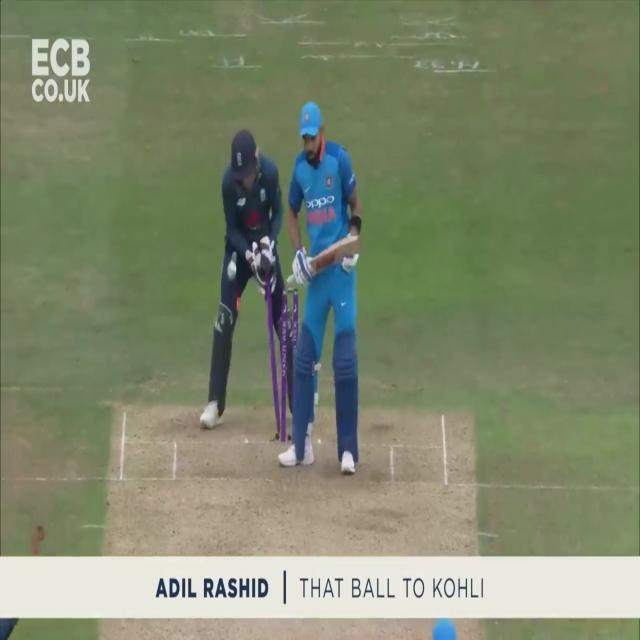cricketBall: (228, 264, 238, 282)
